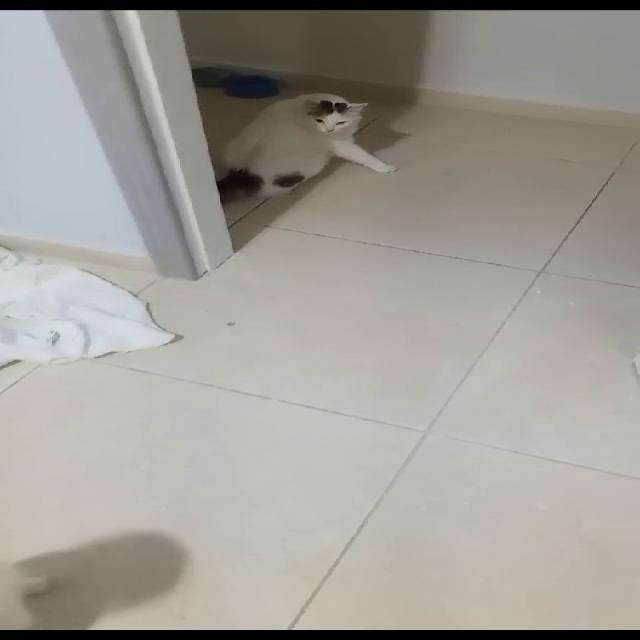Simba: (228, 83, 391, 223)
